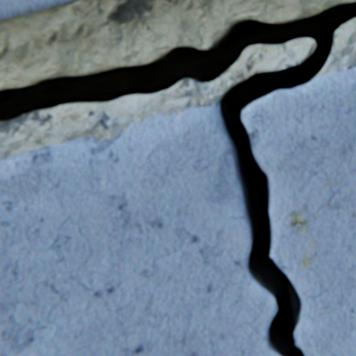brick: (0, 0, 78, 21)
broken_brick: (0, 103, 279, 355), (242, 66, 355, 355)
crack: (0, 1, 355, 355)
